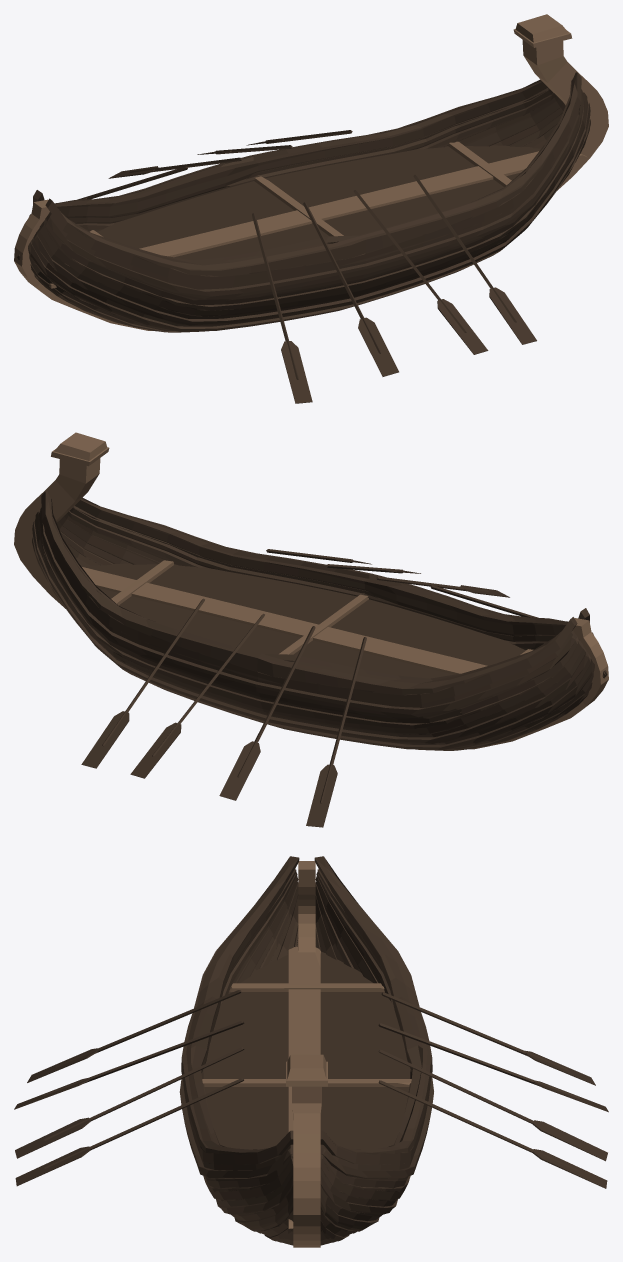
The model's file is SM_boat_norse_01.fbx.
3 renders of one model, top to bottom at view 1: azimuth 30°, elevation 25°; view 2: azimuth 150°, elevation 25°; view 3: azimuth 270°, elevation 25°, orthographic. The views are drawn at different scales.
Visible parts, largest first — view 1: Object558; view 2: Object558; view 3: Object558.
Boxes of the visible parts, box(x1,y1,x2,y2) form: Object558: box(14, 14, 608, 403); Object558: box(14, 432, 608, 827); Object558: box(14, 856, 608, 1247).
Bounding box in the file's own units: 350 × 128 × 287.
